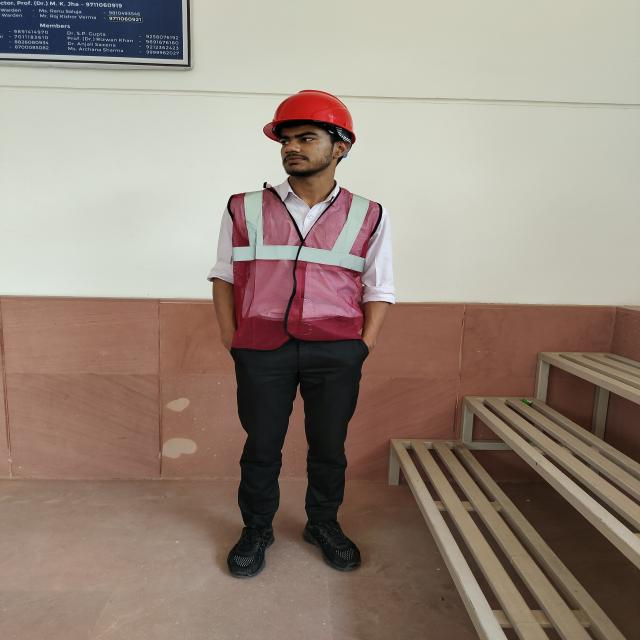safe: (212, 89, 392, 570)
